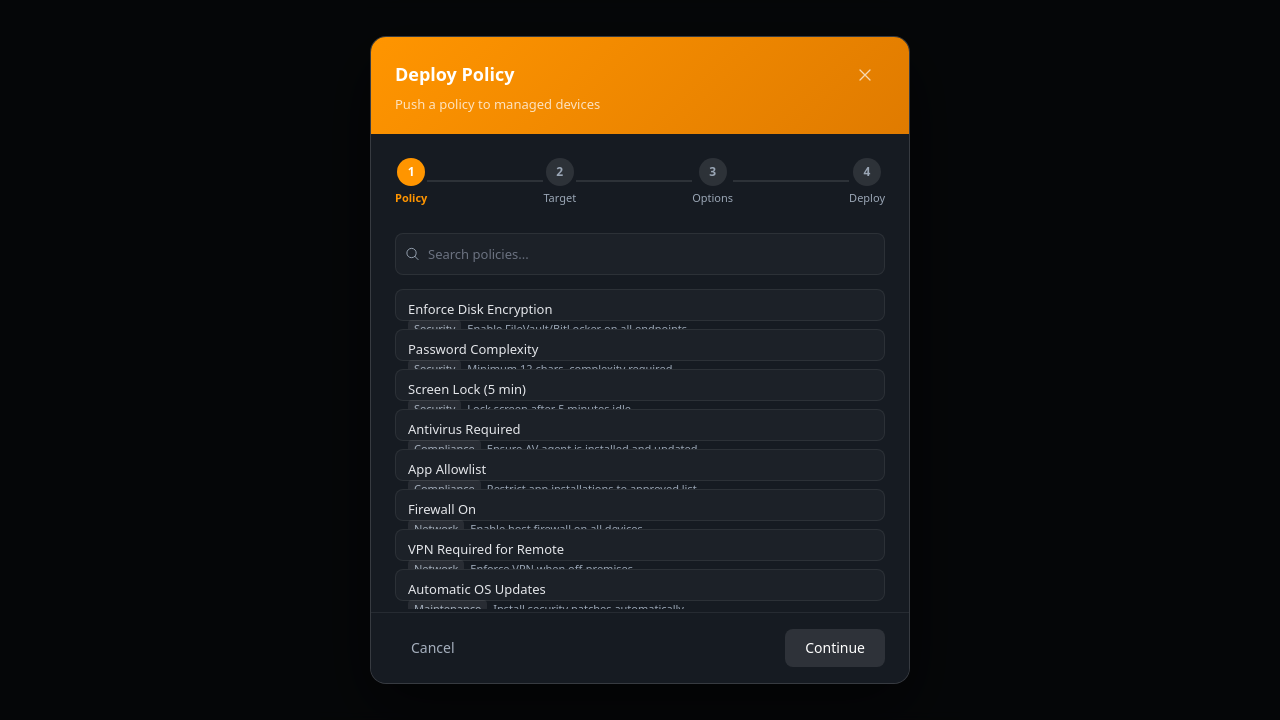
PolicyDeployWizard › policy search filters the list
Type "Disk" into the field with placeholder "Search policies..." at (640,254), box [395, 233, 885, 275]
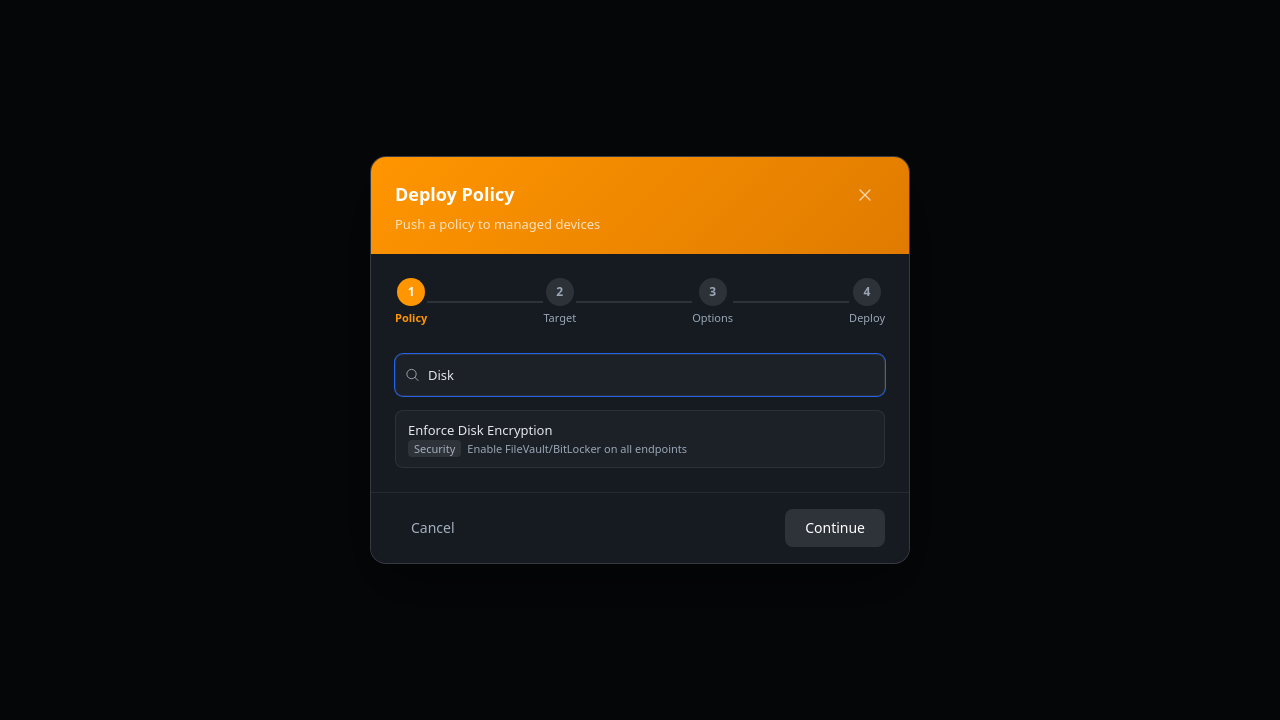
Expected: the text "Enforce Disk Encryption" is shown, [408, 420, 552, 438]
Result: the button "Password Complexity" is gone
